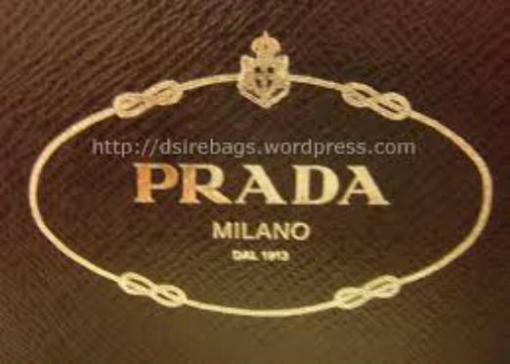PRADA: (132, 154, 390, 213)
